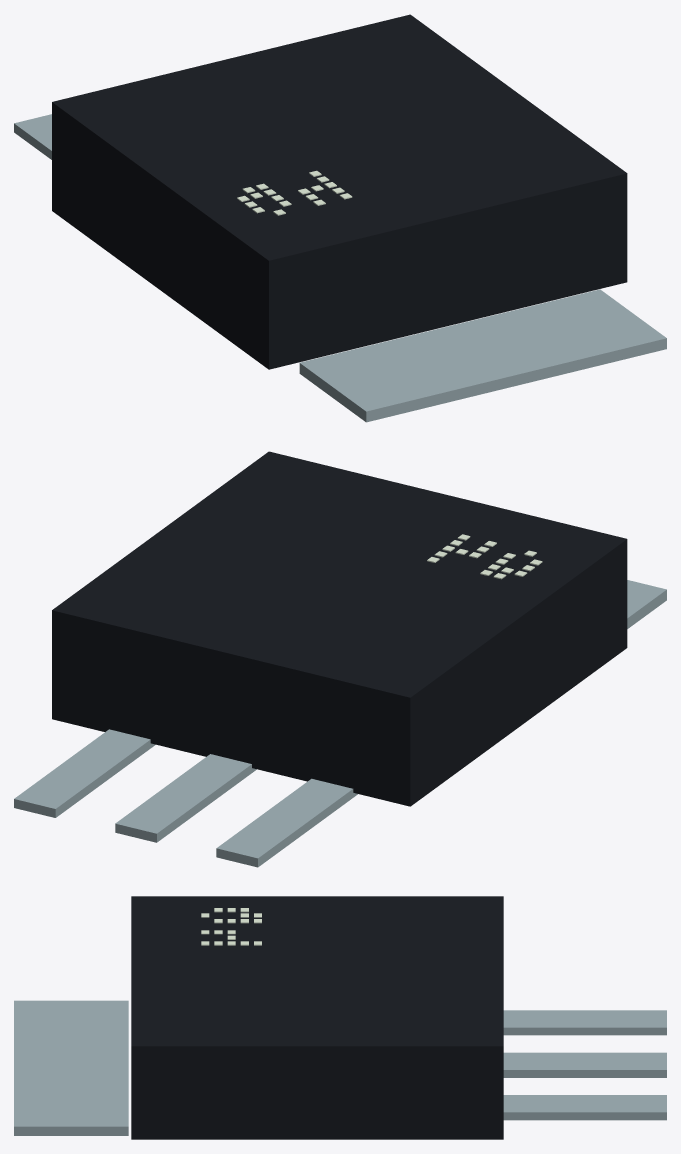
File: 12_L97_Q4_MOSFET.fbx
3 views of the same model, one above another, from view 1: azimuth 30°, elevation 25°; view 2: azimuth 150°, elevation 25°; view 3: azimuth 270°, elevation 25° (orthographic). The views are drawn at different scales.
Visible parts, largest first — view 1: Q4_mold, Q4_heat_tab, Q4_leg_0; view 2: Q4_mold, Q4_leg_0, Q4_leg_1, Q4_leg_2, Q4_heat_tab; view 3: Q4_mold, Q4_heat_tab, Q4_leg_0, Q4_leg_1, Q4_leg_2.
Boxes of the visible parts, bbox=[...] form: Q4_mold: bbox=[52, 14, 627, 369]; Q4_heat_tab: bbox=[299, 289, 666, 422]; Q4_leg_0: bbox=[14, 114, 51, 159]; Q4_mold: bbox=[52, 451, 627, 806]; Q4_leg_0: bbox=[216, 778, 357, 867]; Q4_leg_1: bbox=[115, 754, 256, 842]; Q4_leg_2: bbox=[14, 729, 155, 817]; Q4_heat_tab: bbox=[627, 580, 666, 628]; Q4_mold: bbox=[131, 896, 503, 1139]; Q4_heat_tab: bbox=[14, 1000, 128, 1135]; Q4_leg_0: bbox=[503, 1010, 666, 1035]; Q4_leg_1: bbox=[503, 1052, 666, 1077]; Q4_leg_2: bbox=[503, 1095, 666, 1120].
Size of the model in its own units: 0.0062 by 0.00203 by 0.0114.
